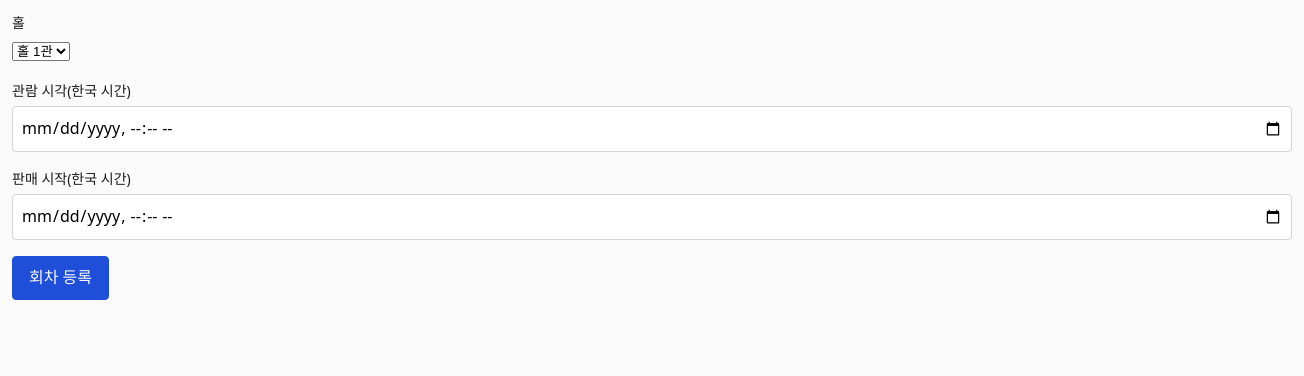
Test case: 회차 등록 › 판매 창을 어긴 400 은 판매 시작 칸 아래에 판매 마감 기준을 말한다(`45d-b`·`I8-2`)
Type "2026-10-01T19:30" into the field labelled "관람 시각(한국 시간)" at (652, 129), box [12,106,1292,152]
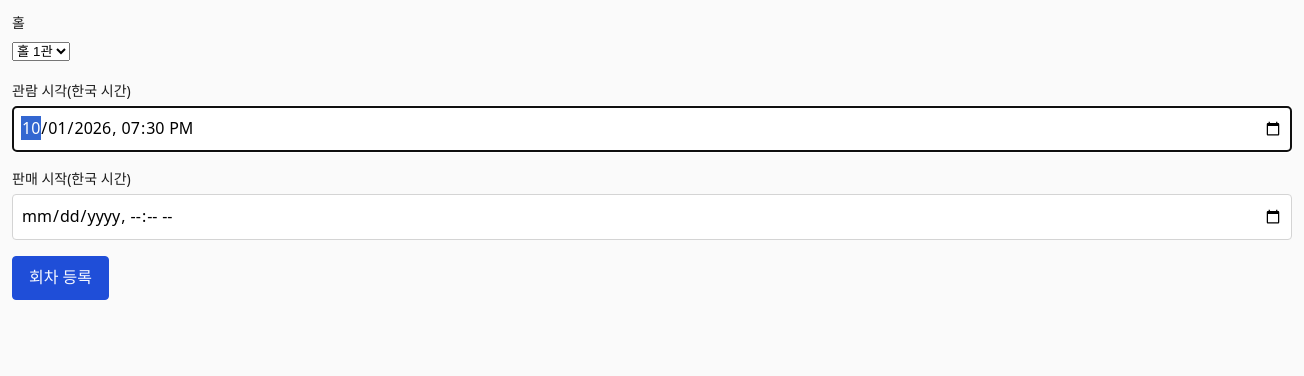
Type "2026-10-01T19:00" into the field labelled "판매 시작(한국 시간)" at (652, 217), box [12,194,1292,240]
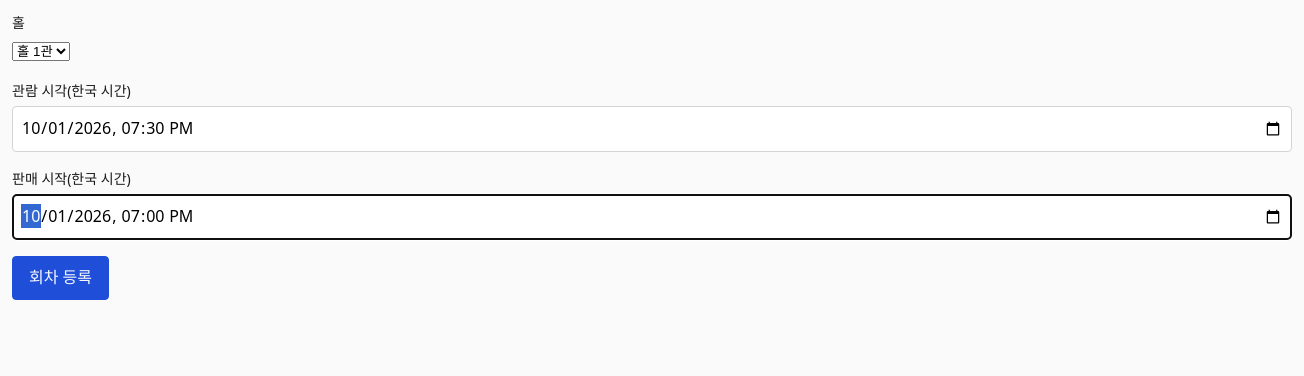
Click the button "회차 등록" at (60, 278), box [12,256,109,300]
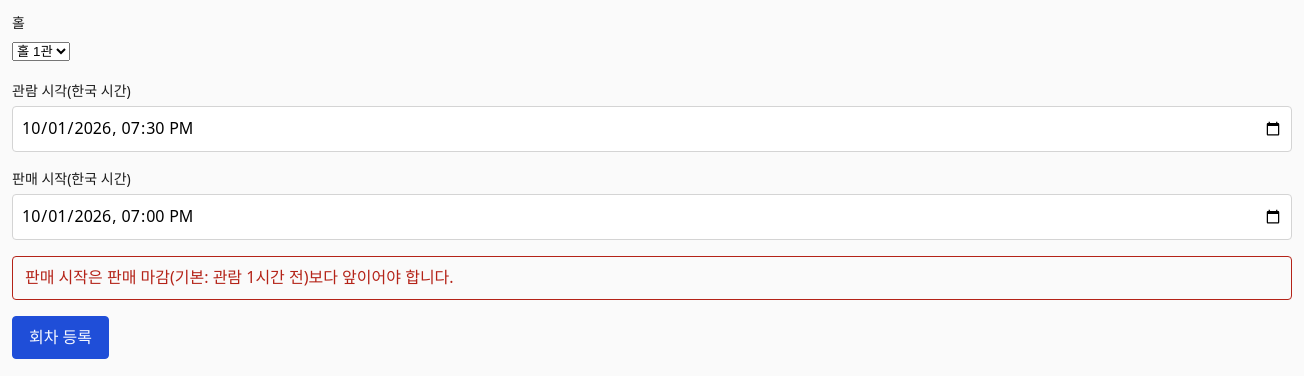
Now the message reads "판매 시작은 판매 마감(기본: 관람 1시간 전)보다 앞이어야 합니다.", box [25,266,454,288]
